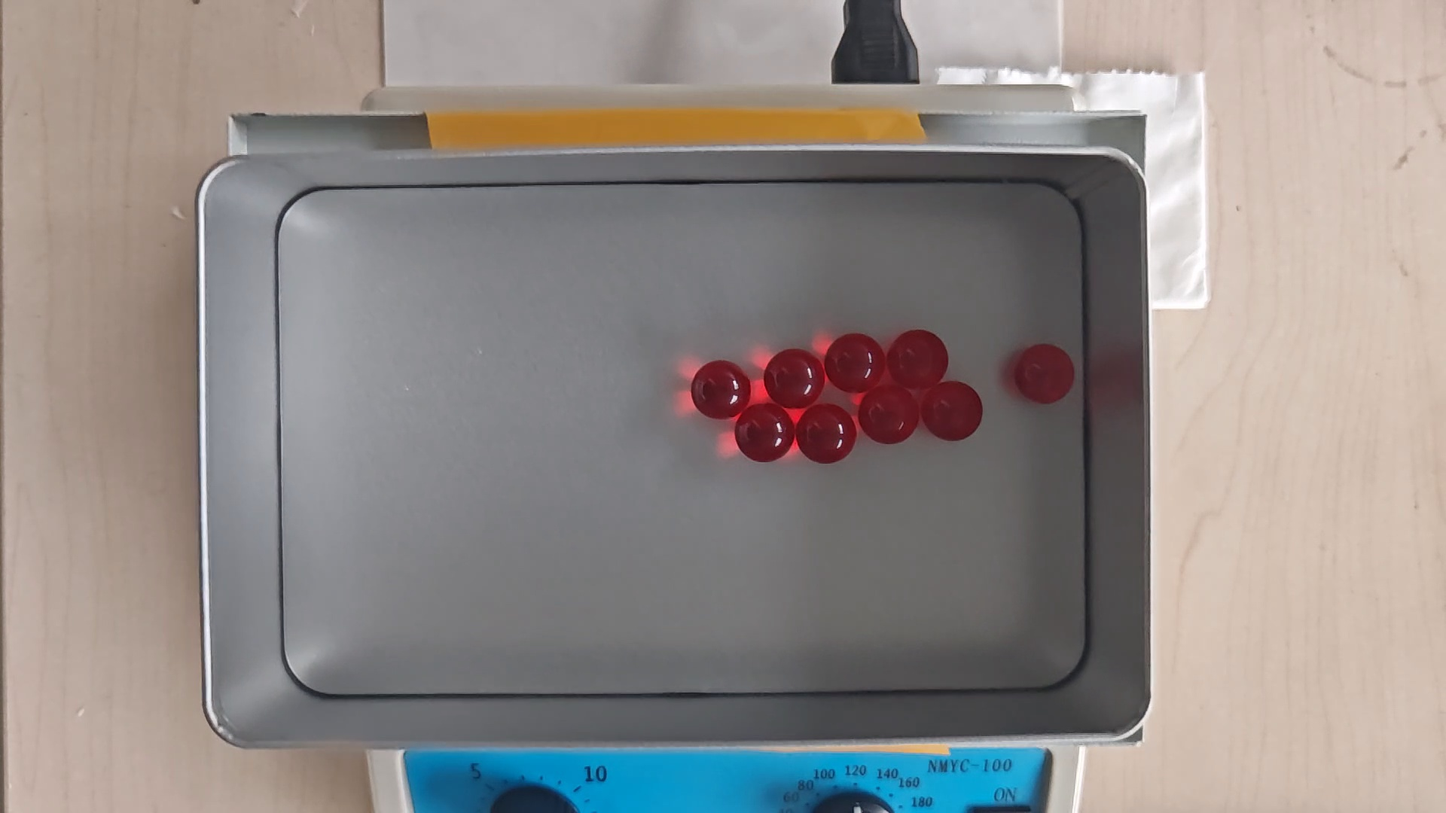ball: (1014, 343, 1075, 405), (923, 380, 984, 442), (888, 329, 949, 390), (765, 348, 825, 409), (797, 405, 857, 465), (859, 386, 919, 446), (691, 360, 750, 420), (826, 332, 884, 393), (736, 404, 794, 465)
container: (279, 181, 1086, 694)
